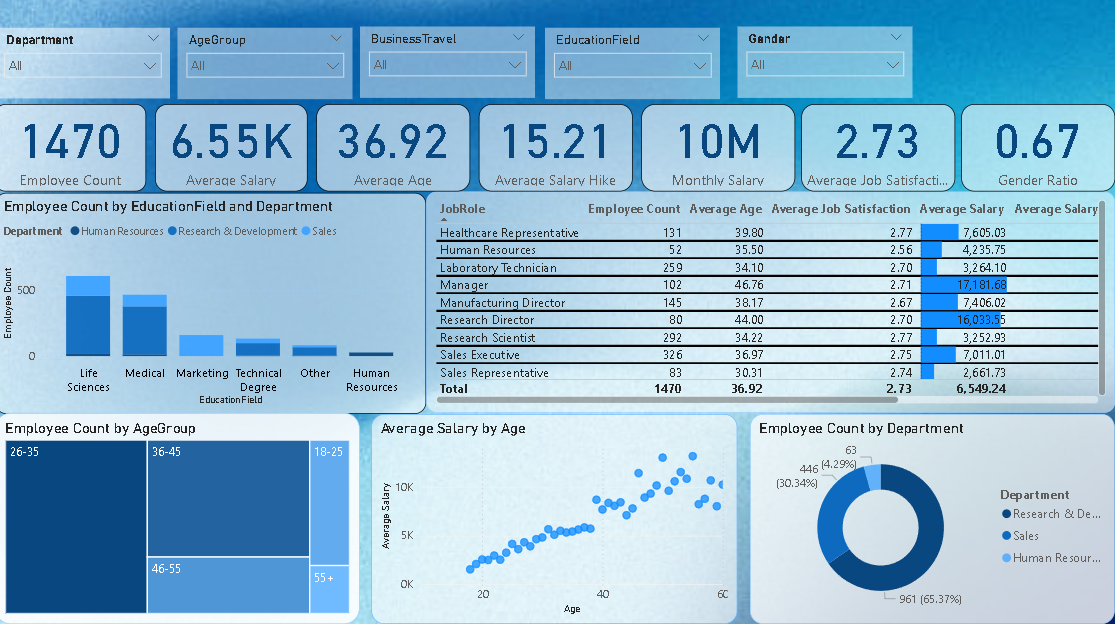

The page's visual inventory and layout, read from the dashboard file:
{"tool":"powerbi","page":{"name":"Page 1","canvas":[1280,720],"ordinal":0},"visuals":[{"type":"columnChart","fields":{"Y":["HR_Analytics.Employee Count"],"Series":["HR_Analytics.Department"],"Category":["HR_Analytics.EducationField"]},"box":[0,227.1,492.9,252.9],"z":0},{"type":"treemap","fields":{"Group":["HR_Analytics.AgeGroup"],"Values":["HR_Analytics.Employee Count"]},"box":[0,478.6,417.1,241.4],"z":1000},{"type":"scatterChart","fields":{"Y":["HR_Analytics.Average Salary"],"X":["HR_Analytics.Age"]},"box":[430,480,418.6,240],"z":2000},{"type":"donutChart","fields":{"Category":["HR_Analytics.Department"],"Y":["HR_Analytics.Employee Count"]},"box":[862.9,480,417.1,240],"z":3000},{"type":"tableEx","fields":{"Values":["HR_Analytics.JobRole","HR_Analytics.Employee Count","HR_Analytics.Average Age","HR_Analytics.Average Job Satisfaction","HR_Analytics.Average Salary","HR_Analytics.Average Salary Hike","HR_Analytics.Gender Ratio","HR_Analytics.OverTime %","HR_Analytics.Average Years"]},"box":[492.9,225.7,787.1,252.9],"z":4000},{"type":"card","fields":{"Values":["HR_Analytics.Employee Count"]},"box":[0,125.7,172.9,100],"z":5000},{"type":"card","fields":{"Values":["HR_Analytics.Average Salary"]},"box":[182.9,125.7,174.3,100],"z":6000},{"type":"card","fields":{"Values":["HR_Analytics.Average Age"]},"box":[367.1,125.7,175.7,100],"z":7000},{"type":"card","fields":{"Values":["HR_Analytics.Average Salary Hike"]},"box":[552.9,125.7,175.7,100],"z":8000},{"type":"card","fields":{"Values":["HR_Analytics.Monthly Salary"]},"box":[738.6,125.7,175.7,100],"z":9000},{"type":"card","fields":{"Values":["HR_Analytics.Gender Ratio"]},"box":[1104.3,125.7,175.7,100],"z":10000},{"type":"card","fields":{"Values":["HR_Analytics.Average Job Satisfaction"]},"box":[922,125,175.7,100],"z":11000},{"type":"slicer","fields":{"Values":["HR_Analytics.Department"]},"box":[0,38.6,200,81],"z":12000},{"type":"slicer","fields":{"Values":["HR_Analytics.AgeGroup"]},"box":[208.6,38.6,200,81.4],"z":13000},{"type":"slicer","fields":{"Values":["HR_Analytics.BusinessTravel"]},"box":[417.1,37.1,200,81.4],"z":14000},{"type":"slicer","fields":{"Values":["HR_Analytics.EducationField"]},"box":[628.6,38.6,200,81.4],"z":15000},{"type":"slicer","fields":{"Values":["HR_Analytics.Gender"]},"box":[848.6,37.1,200,81.4],"z":16000}]}

Visuals, with their boxes in screenshot pixels (x1, y1, x2, y2), scaled from the page's 1280x720 canvas onto the 1115x624 screenshot:
columnChart - HR_Analytics.Employee Count x HR_Analytics.Department: Rect(0, 197, 429, 416)
treemap - HR_Analytics.AgeGroup x HR_Analytics.Employee Count: Rect(0, 415, 363, 623)
scatterChart - HR_Analytics.Average Salary x HR_Analytics.Age: Rect(375, 416, 739, 623)
donutChart - HR_Analytics.Department x HR_Analytics.Employee Count: Rect(752, 416, 1114, 623)
tableEx - HR_Analytics.JobRole x HR_Analytics.Employee Count: Rect(429, 196, 1114, 415)
card - HR_Analytics.Employee Count: Rect(0, 109, 151, 196)
card - HR_Analytics.Average Salary: Rect(159, 109, 311, 196)
card - HR_Analytics.Average Age: Rect(320, 109, 473, 196)
card - HR_Analytics.Average Salary Hike: Rect(482, 109, 635, 196)
card - HR_Analytics.Monthly Salary: Rect(643, 109, 796, 196)
card - HR_Analytics.Gender Ratio: Rect(962, 109, 1114, 196)
card - HR_Analytics.Average Job Satisfaction: Rect(803, 108, 956, 195)
slicer - HR_Analytics.Department: Rect(0, 33, 174, 104)
slicer - HR_Analytics.AgeGroup: Rect(182, 33, 356, 104)
slicer - HR_Analytics.BusinessTravel: Rect(363, 32, 538, 103)
slicer - HR_Analytics.EducationField: Rect(548, 33, 722, 104)
slicer - HR_Analytics.Gender: Rect(739, 32, 913, 103)
